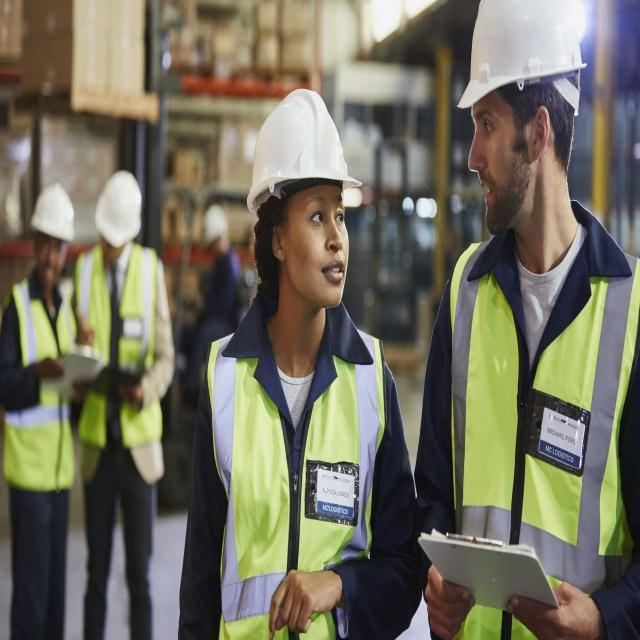helmet: (453, 1, 588, 320), (244, 113, 362, 411), (26, 233, 78, 387), (89, 218, 145, 354), (198, 261, 232, 347)
vest: (442, 316, 640, 640), (209, 437, 377, 640), (74, 336, 175, 597), (1, 372, 75, 640)
